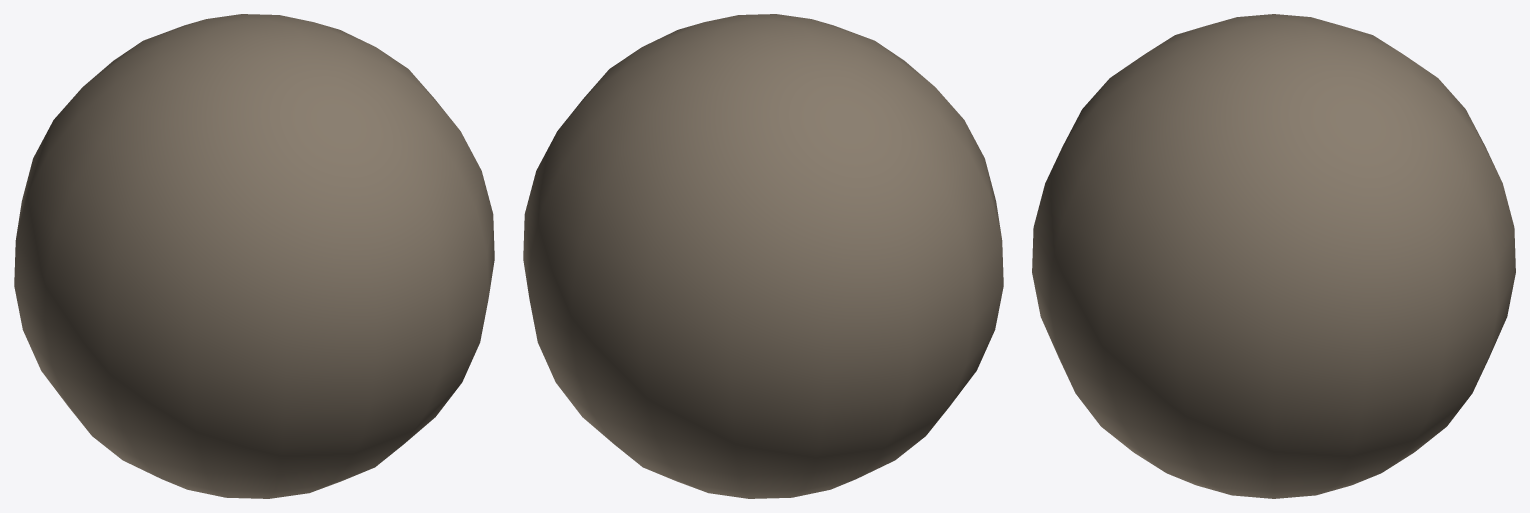
The model's file is bald.glb.
The picture shows the model from 3 angles, left to right: view 1: azimuth 30°, elevation 25°; view 2: azimuth 150°, elevation 25°; view 3: azimuth 270°, elevation 25°; orthographic projection.
Parts seen in each view (by area): view 1: Hair_bald; view 2: Hair_bald; view 3: Hair_bald.
Boxes of the visible parts, box(x1,y1,x2,y2) form: Hair_bald: box(14, 14, 494, 498); Hair_bald: box(523, 14, 1003, 498); Hair_bald: box(1032, 14, 1515, 498).
Bounding box in the file's own units: 2 × 1.9 × 2.
